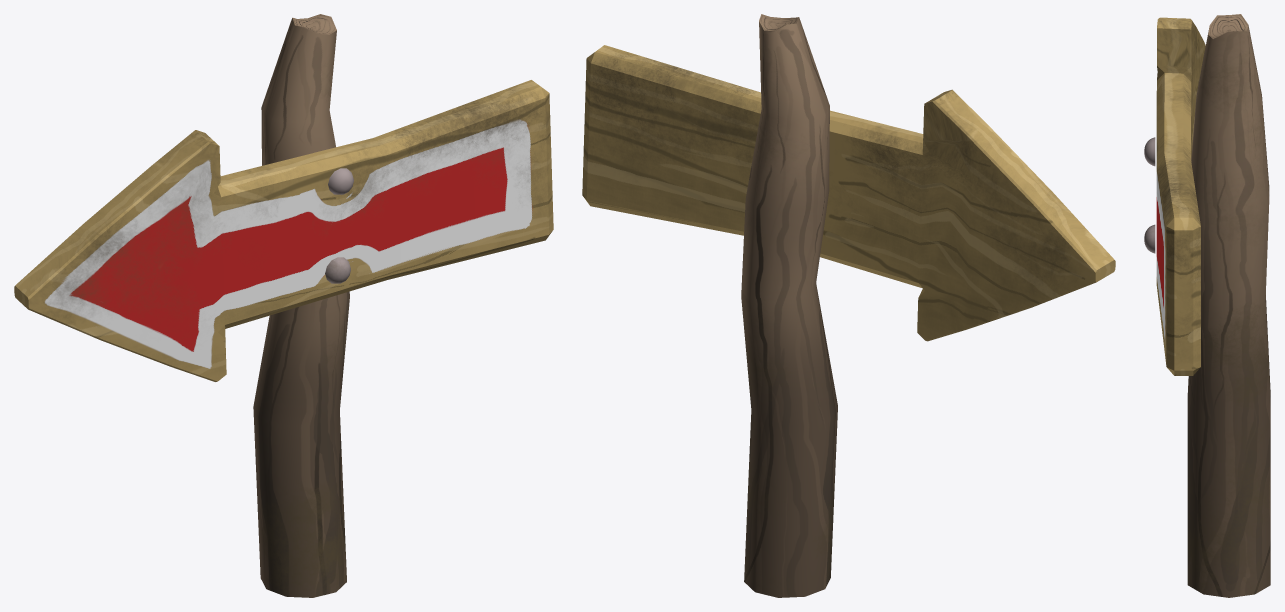
File: SignLeft.fbx
3 views of the same model, side by side, from view 1: azimuth 30°, elevation 25°; view 2: azimuth 150°, elevation 25°; view 3: azimuth 270°, elevation 25° (orthographic).
Visible parts, largest first — view 1: SignLeft; view 2: SignLeft; view 3: SignLeft.
Boxes of the visible parts, left/top/right/bottom form: SignLeft: left=14, top=14, right=553, bottom=597; SignLeft: left=582, top=14, right=1115, bottom=597; SignLeft: left=1144, top=14, right=1270, bottom=597.
Size of the model in its own units: 213 by 218 by 44.43.
